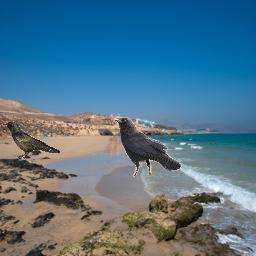Crow: (113, 117, 182, 177), (0, 121, 60, 161)
